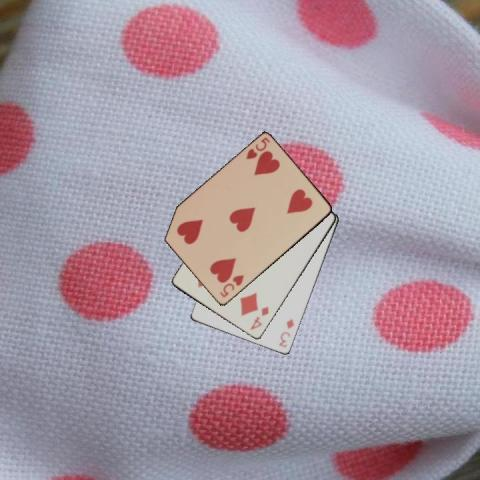3d: (276, 316, 295, 349)
4d: (247, 304, 270, 332)
5h: (217, 272, 246, 299), (243, 135, 271, 161)
